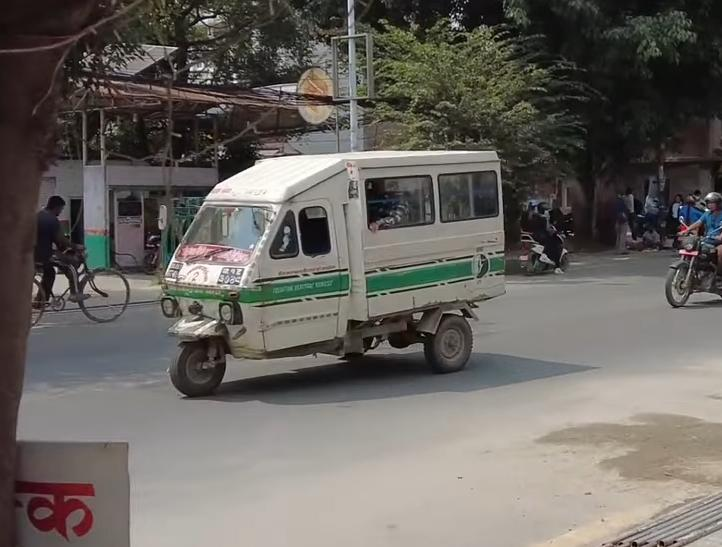bike: (664, 215, 722, 312)
tempo: (151, 135, 527, 406)
